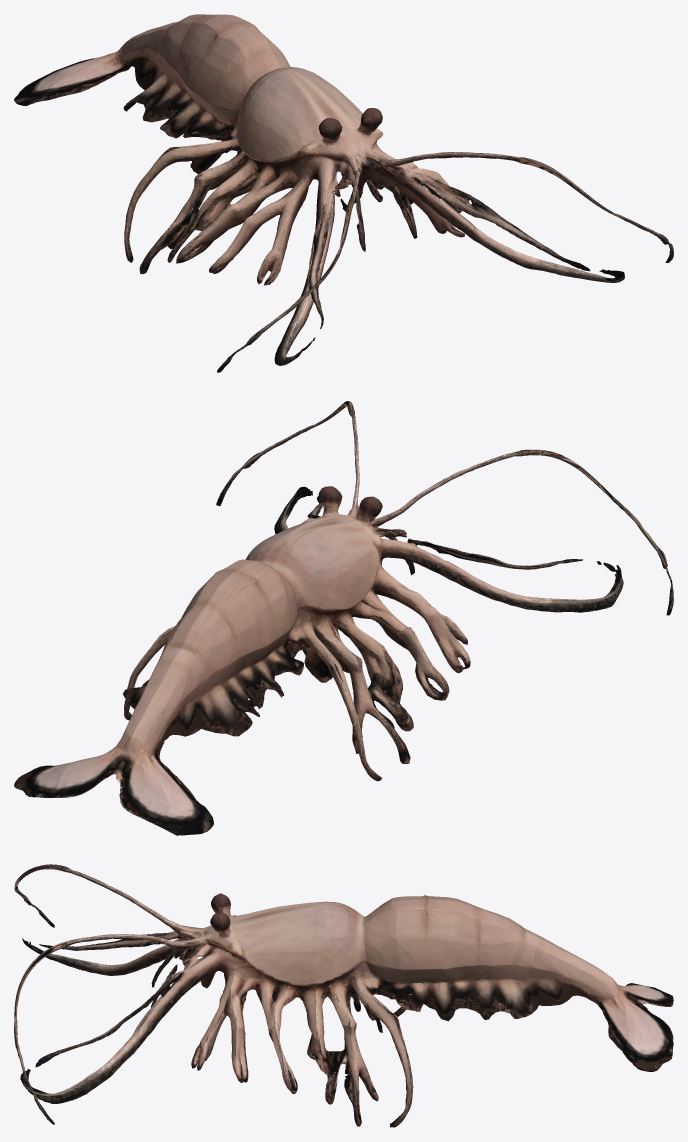
3 views of the same model, one above another, from view 1: azimuth 30°, elevation 25°; view 2: azimuth 150°, elevation 25°; view 3: azimuth 270°, elevation 25° (orthographic). The views are drawn at different scales.
Visible parts, largest first — view 1: world; view 2: world; view 3: world.
Boxes of the visible parts, x1,y1,x2,y2 form: world: (14, 14, 673, 372); world: (14, 401, 673, 835); world: (14, 864, 673, 1127).
Size of the model in its own units: 0.1242 by 0.0506 by 0.1741.
Materials: 1 (1 with a texture image).
